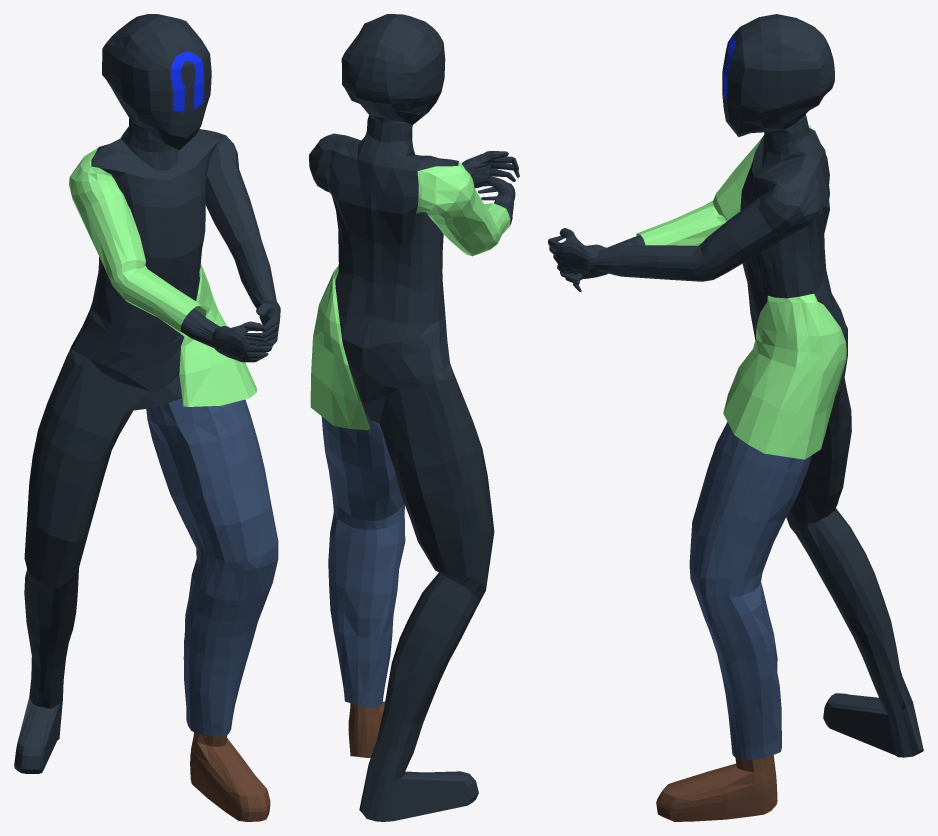
The model's file is Mar_WF_000009.obj.
3 renders of one model, left to right at view 1: azimuth 30°, elevation 25°; view 2: azimuth 150°, elevation 25°; view 3: azimuth 270°, elevation 25°, orthographic. The views are drawn at different scales.
Parts seen in each view (by area): view 1: Cube.000_Cube.001; view 2: Cube.000_Cube.001; view 3: Cube.000_Cube.001.
Boxes of the visible parts, left/top/right/bottom form: Cube.000_Cube.001: left=14, top=14, right=280, bottom=821; Cube.000_Cube.001: left=309, top=14, right=519, bottom=821; Cube.000_Cube.001: left=548, top=14, right=923, bottom=821.
Size of the model in its own units: 1.07 by 3.86 by 1.7.
